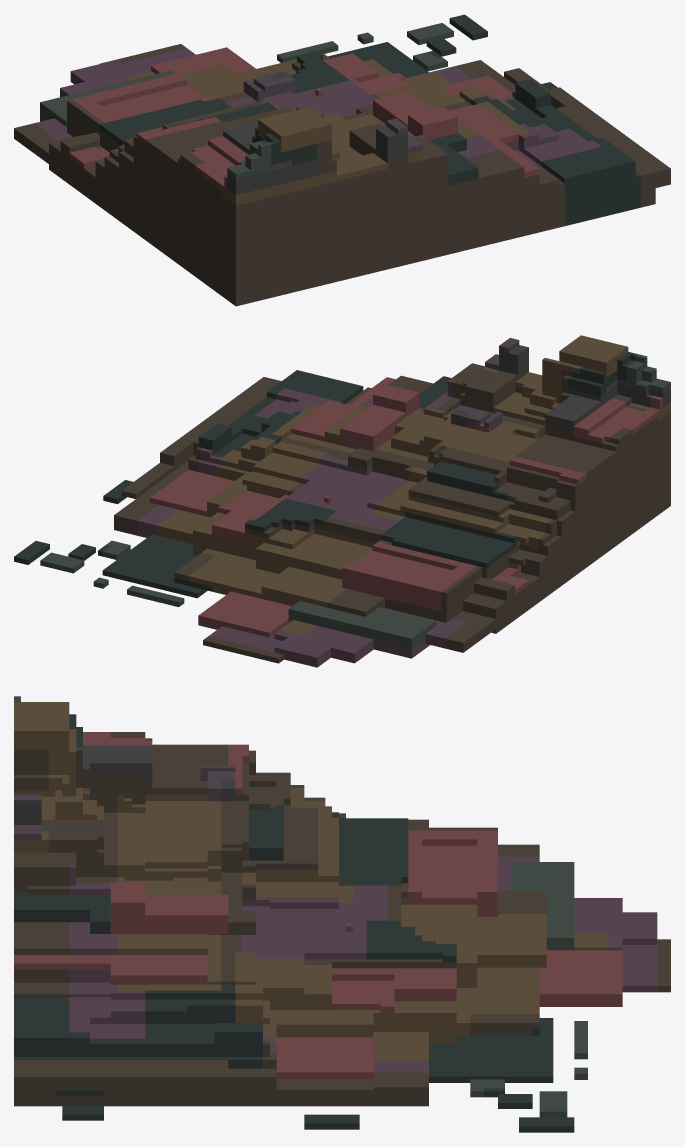
File: Smolbble Pile-1.obj
The picture shows the model from 3 angles, top to bottom: view 1: azimuth 30°, elevation 25°; view 2: azimuth 150°, elevation 25°; view 3: azimuth 270°, elevation 25°; orthographic projection. The views are drawn at different scales.
Visible parts, largest first — view 1: Smolbble Pile-1; view 2: Smolbble Pile-1; view 3: Smolbble Pile-1.
Boxes of the visible parts, x1=… form: Smolbble Pile-1: x1=14, y1=14, x2=670, y2=306; Smolbble Pile-1: x1=14, y1=335, x2=670, y2=667; Smolbble Pile-1: x1=14, y1=696, x2=670, y2=1132.
Bounding box in the file's own units: 92 × 30 × 95.
1 material, 1 textured.
